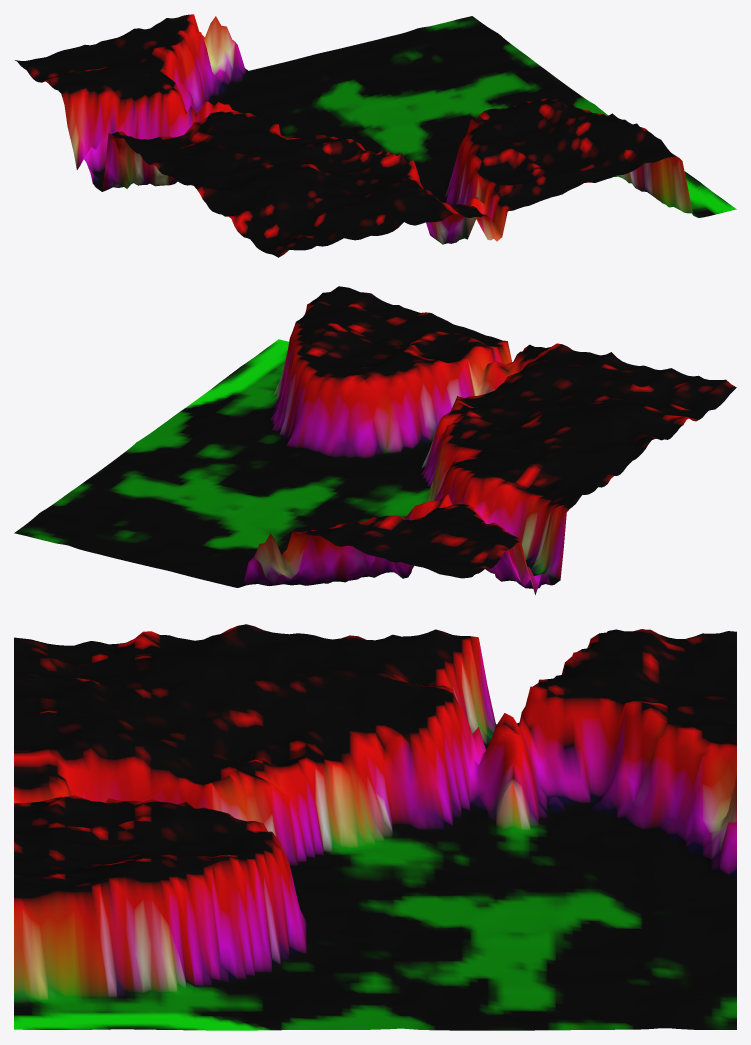
The model's file is SM_AlUla_Terrain_2_0.fbx.
3 renders of one model, top to bottom at view 1: azimuth 30°, elevation 25°; view 2: azimuth 150°, elevation 25°; view 3: azimuth 270°, elevation 25°, orthographic. The views are drawn at different scales.
Parts seen in each view (by area): view 1: SM_AlUla_Terrain_2_0; view 2: SM_AlUla_Terrain_2_0; view 3: SM_AlUla_Terrain_2_0.
Part boxes in pixels (left/top/right/bottom): SM_AlUla_Terrain_2_0: left=15, top=14, right=736, bottom=257; SM_AlUla_Terrain_2_0: left=14, top=286, right=736, bottom=594; SM_AlUla_Terrain_2_0: left=14, top=624, right=736, bottom=1030.
Bounding box in the file's own units: 50400 × 8190 × 50400.
